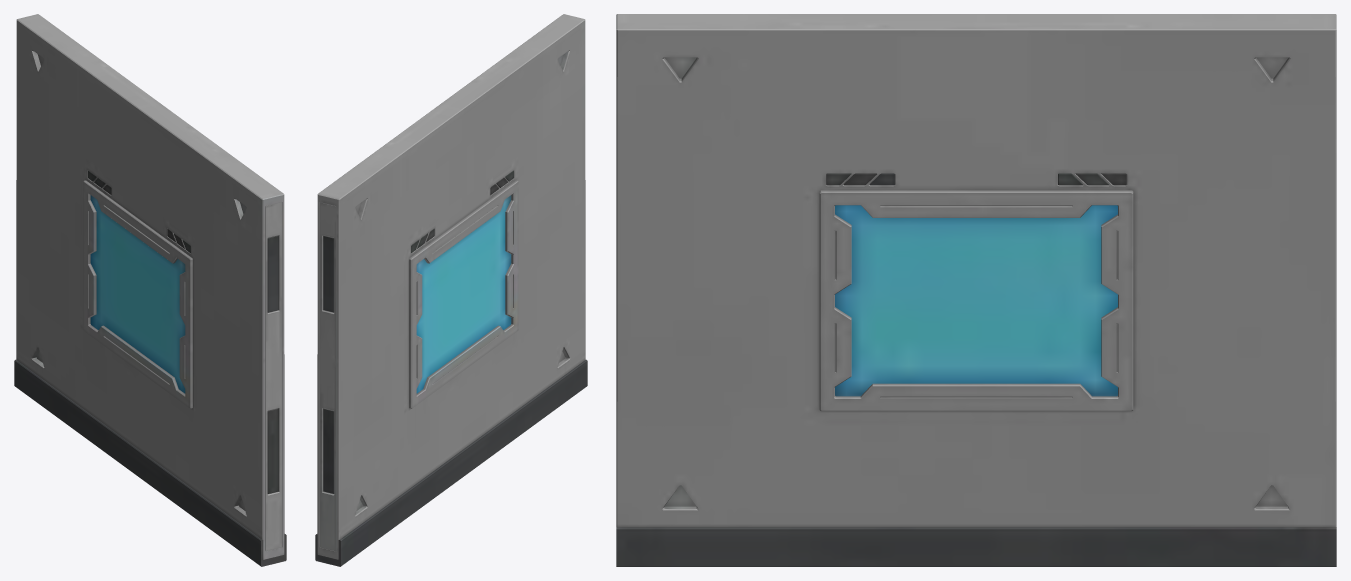
Rendered from SM_WallWindow_SF_379835.glb.
3 views of the same model, side by side, from view 1: azimuth 30°, elevation 25°; view 2: azimuth 150°, elevation 25°; view 3: azimuth 270°, elevation 25° (orthographic). The views are drawn at different scales.
Size of the model in its own units: 0.2593 by 3.29 by 4.
2 materials, 2 textured.
